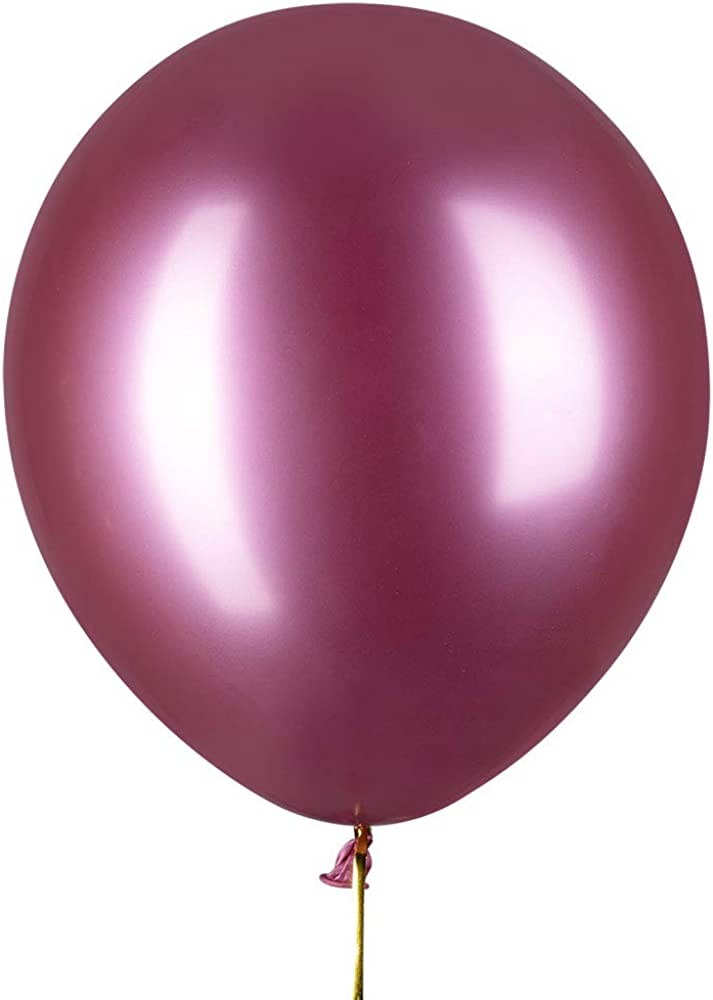Balloon: (1, 5, 711, 822)
